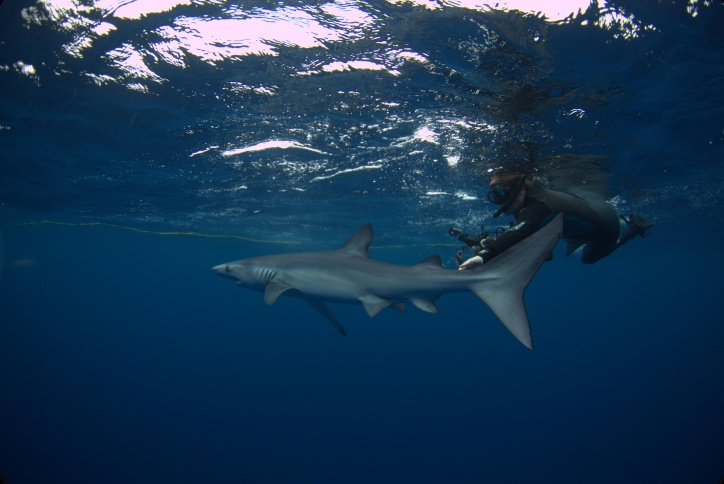Azul: (197, 189, 581, 370)
